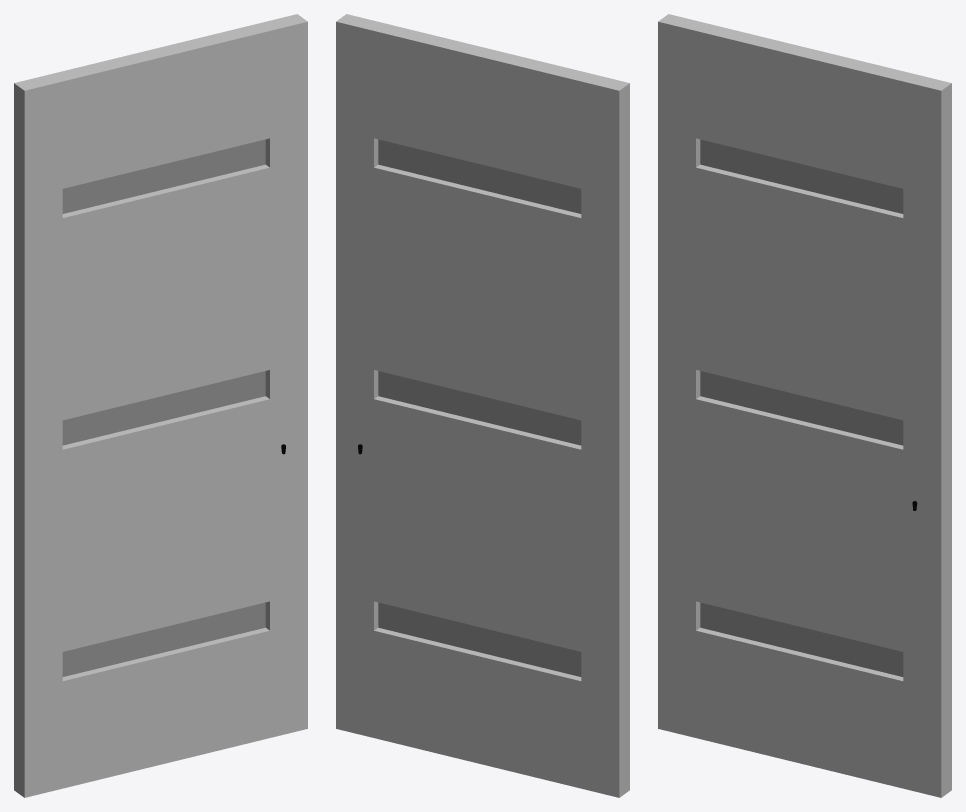
File: Door08.fbx
3 views of the same model, side by side, from view 1: azimuth 30°, elevation 25°; view 2: azimuth 150°, elevation 25°; view 3: azimuth 330°, elevation 25° (orthographic).
Parts seen in each view (by area): view 1: Door08; view 2: Door08; view 3: Door08.
Boxes of the visible parts, bbox=[...] form: Door08: bbox=[14, 14, 307, 797]; Door08: bbox=[336, 14, 629, 797]; Door08: bbox=[658, 14, 951, 797].
Bounding box in the file's own units: 78 × 186 × 6.71.
